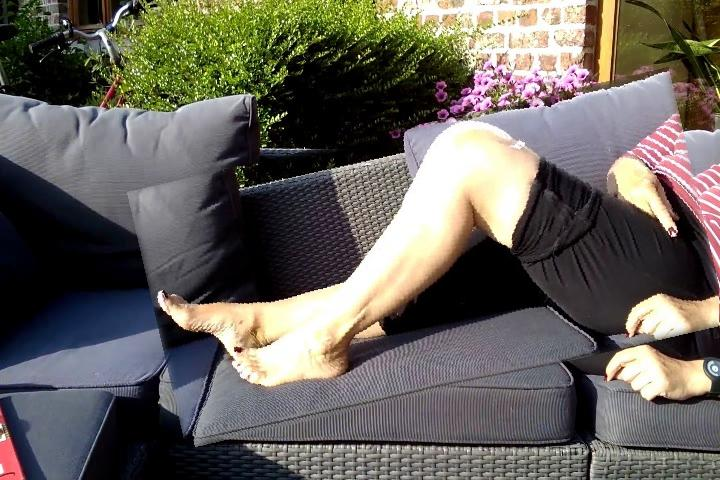lower_body: (140, 98, 718, 421)
